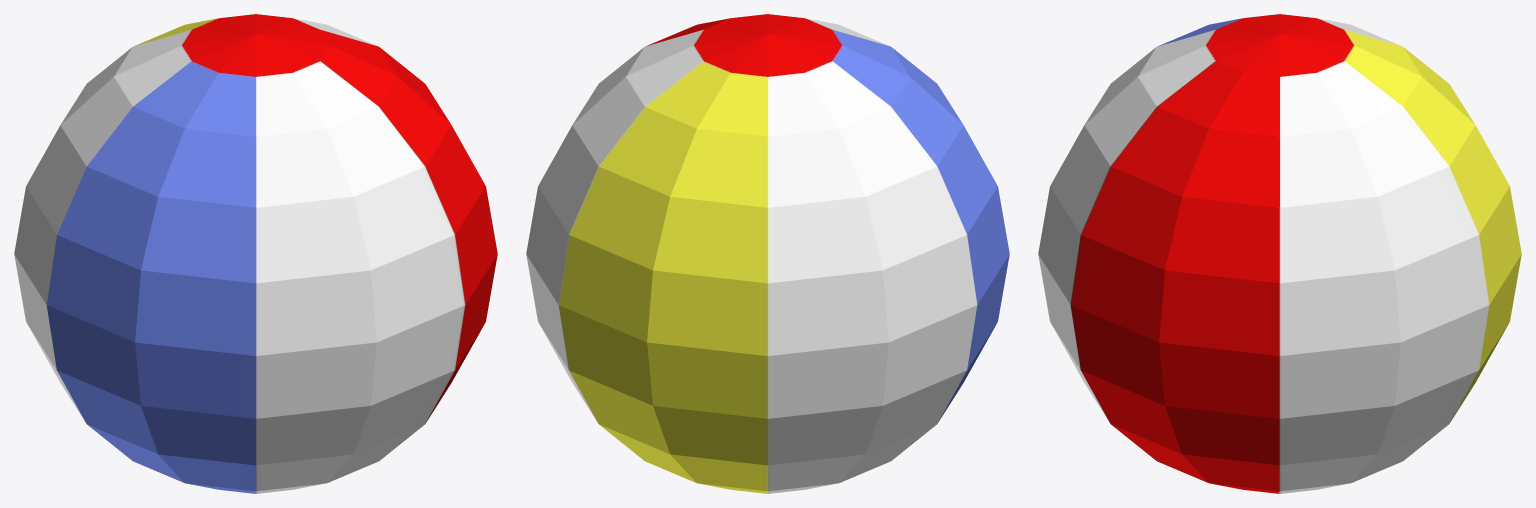
File: BeachBall.glb
3 views of the same model, side by side, from view 1: azimuth 30°, elevation 25°; view 2: azimuth 150°, elevation 25°; view 3: azimuth 270°, elevation 25° (orthographic).
Parts seen in each view (by area): view 1: Beach Ball; view 2: Beach Ball; view 3: Beach Ball.
Boxes of the visible parts, bbox=[...] form: Beach Ball: bbox=[14, 14, 497, 493]; Beach Ball: bbox=[526, 14, 1009, 493]; Beach Ball: bbox=[1038, 14, 1521, 493].
Bounding box in the file's own units: 0.4 × 0.4 × 0.4.
Materials: 1 (1 with a texture image).
